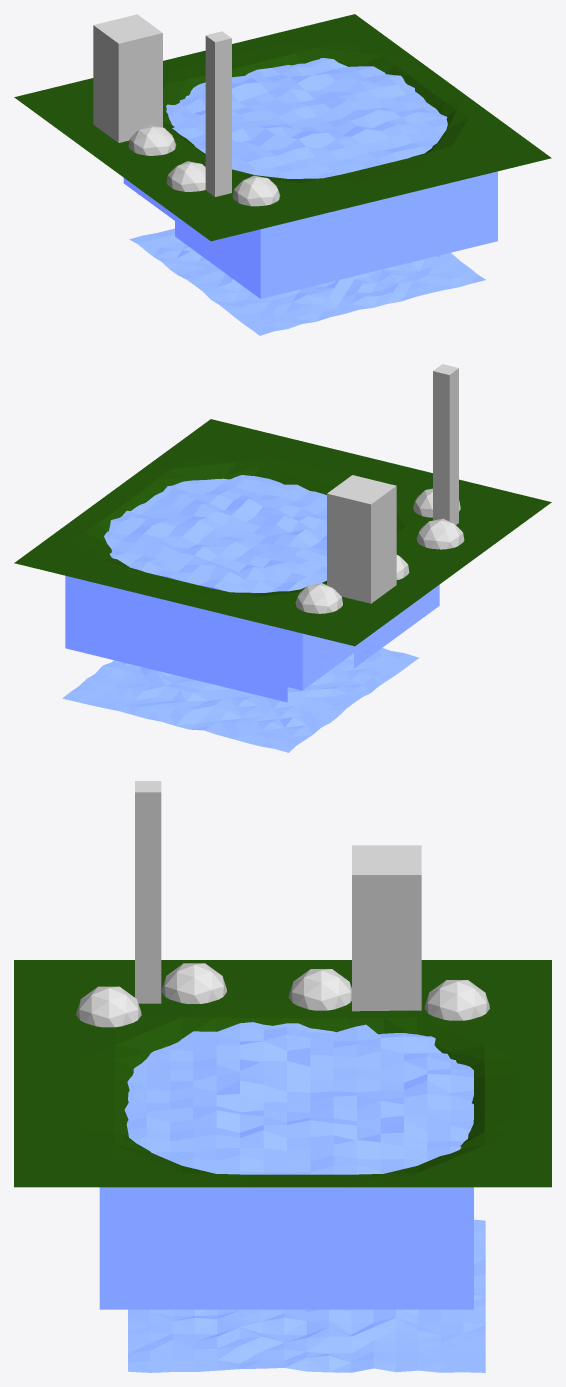
The model's file is good lake.fbx.
The picture shows the model from 3 angles, top to bottom: view 1: azimuth 30°, elevation 25°; view 2: azimuth 150°, elevation 25°; view 3: azimuth 270°, elevation 25°; orthographic projection. The views are drawn at different scales.
Parts seen in each view (by area): view 1: Cube.002, Plane, Plane.005, Cube, Cube.001, Icosphere.003, Icosphere.001, Icosphere.002; view 2: Cube.002, Plane, Plane.005, Cube, Cube.001, Icosphere.002, Icosphere; view 3: Cube.002, Plane, Plane.005, Cube, Cube.001, Icosphere.003, Icosphere.001, Icosphere.002, Icosphere.
Part boxes in pixels (<box>): Cube.002: <box>123,58,497,298</box>; Plane: <box>14,14,551,241</box>; Plane.005: <box>129,228,485,335</box>; Cube: <box>93,14,162,142</box>; Cube.001: <box>205,31,231,196</box>; Icosphere.003: <box>232,175,280,206</box>; Icosphere.001: <box>128,125,176,155</box>; Icosphere.002: <box>166,161,205,191</box>; Cube.002: <box>65,475,439,702</box>; Plane: <box>14,419,551,646</box>; Plane.005: <box>62,648,418,752</box>; Cube: <box>327,475,396,603</box>; Cube.001: <box>433,364,458,524</box>; Icosphere.002: <box>416,518,464,549</box>; Icosphere: <box>295,583,342,613</box>; Cube.002: <box>99,1022,473,1309</box>; Plane: <box>14,960,551,1187</box>; Plane.005: <box>128,1219,485,1372</box>; Cube: <box>352,845,421,1011</box>; Cube.001: <box>135,781,161,1003</box>; Icosphere.003: <box>76,986,141,1027</box>; Icosphere.001: <box>288,969,351,1010</box>; Icosphere.002: <box>161,963,226,1003</box>; Icosphere: <box>424,980,489,1020</box>.
Bounding box in the file's own units: 1544 × 1307 × 1544.
